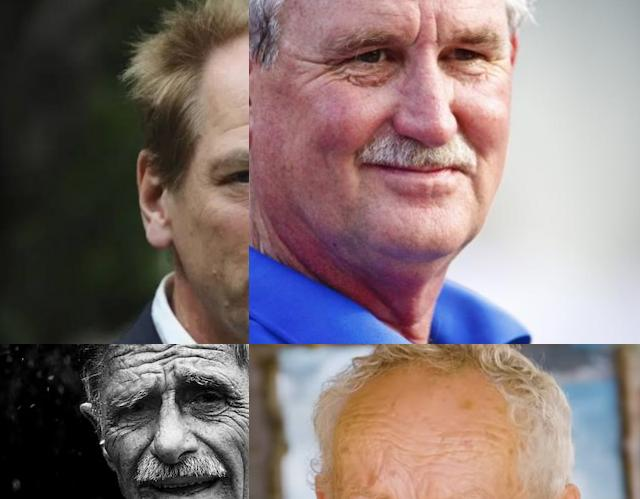crows_feet: (301, 52, 344, 86), (482, 50, 508, 72), (229, 391, 249, 419), (105, 418, 123, 434)
forehead: (428, 434, 466, 460), (185, 344, 230, 364), (146, 345, 178, 368), (376, 436, 410, 456), (110, 348, 138, 368), (227, 113, 249, 132)
frown_line: (410, 15, 428, 48), (154, 368, 176, 392), (432, 14, 444, 49)
gummy_smile: (194, 434, 230, 458), (134, 440, 152, 464)
masseter: (237, 455, 249, 499)
